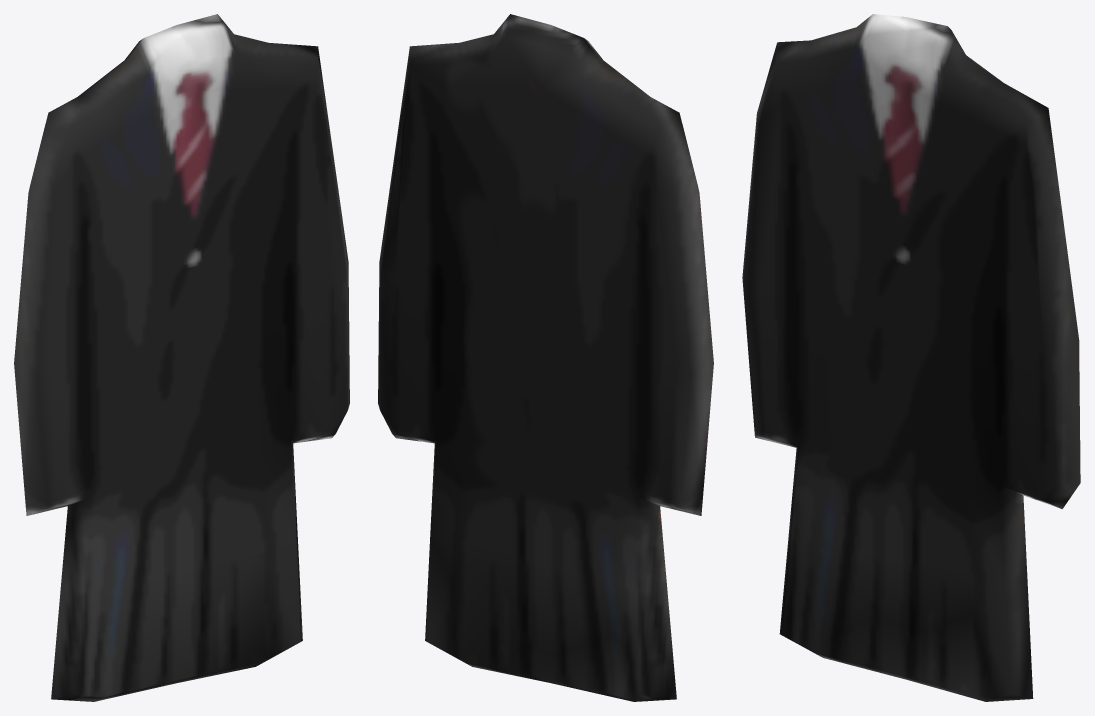
File: prop_fuku11.fbx
3 views of the same model, side by side, from view 1: azimuth 30°, elevation 25°; view 2: azimuth 150°, elevation 25°; view 3: azimuth 330°, elevation 25° (orthographic).
Visible parts, largest first — view 1: prop_fuku11; view 2: prop_fuku11; view 3: prop_fuku11.
Boxes of the visible parts, <box> form: prop_fuku11: <box>14,14,349,701</box>; prop_fuku11: <box>378,14,713,701</box>; prop_fuku11: <box>742,14,1080,701</box>.
Bounding box in the file's own units: 0.4945 × 0.9314 × 0.0522.
